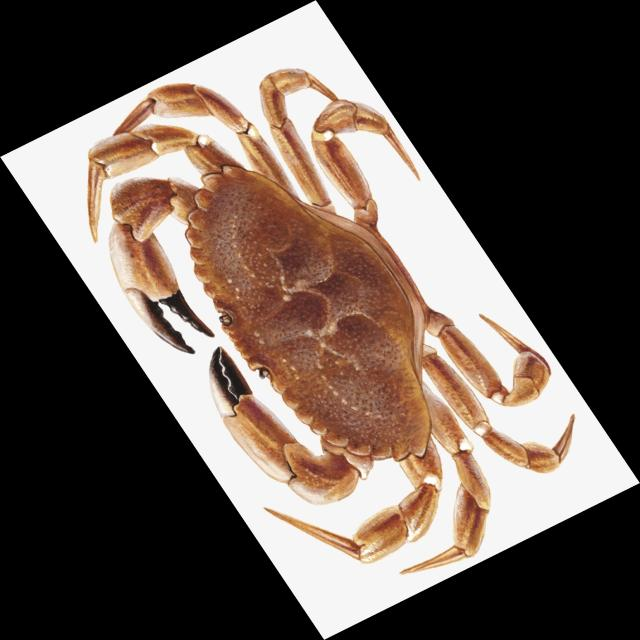Native Jonah crab: (88, 70, 549, 570)
